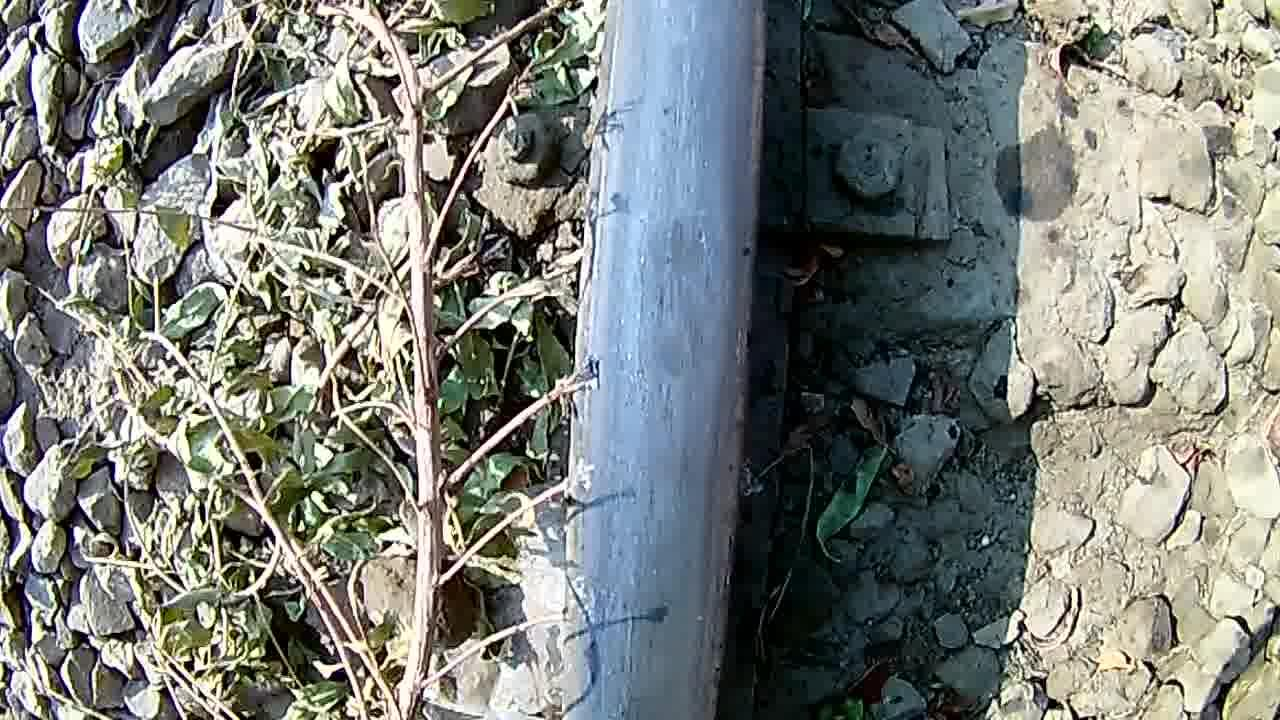bolt_missing: (593, 158, 756, 516)
